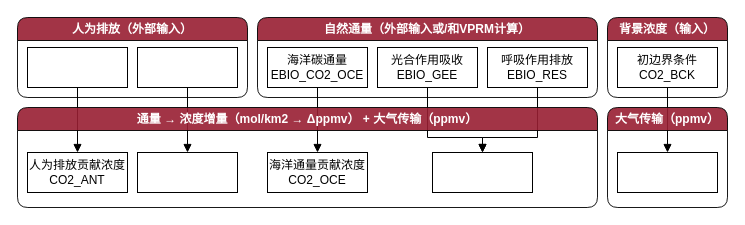
Image size: 745x225. Some labels were removed from this diagram. Here are the shapes that lost their labels. From the top down, the centre of each, then its label:
the point at 77,67: 人为排放 ECO2
the point at 187,67: 测试碳通量 ECO2_TST
the point at 187,172: 测试排放贡献浓度 CO2_TST
the point at 482,172: 自然通量贡献浓度 CO2_BIO
the point at 667,172: 背景浓度 CO2_BCK
